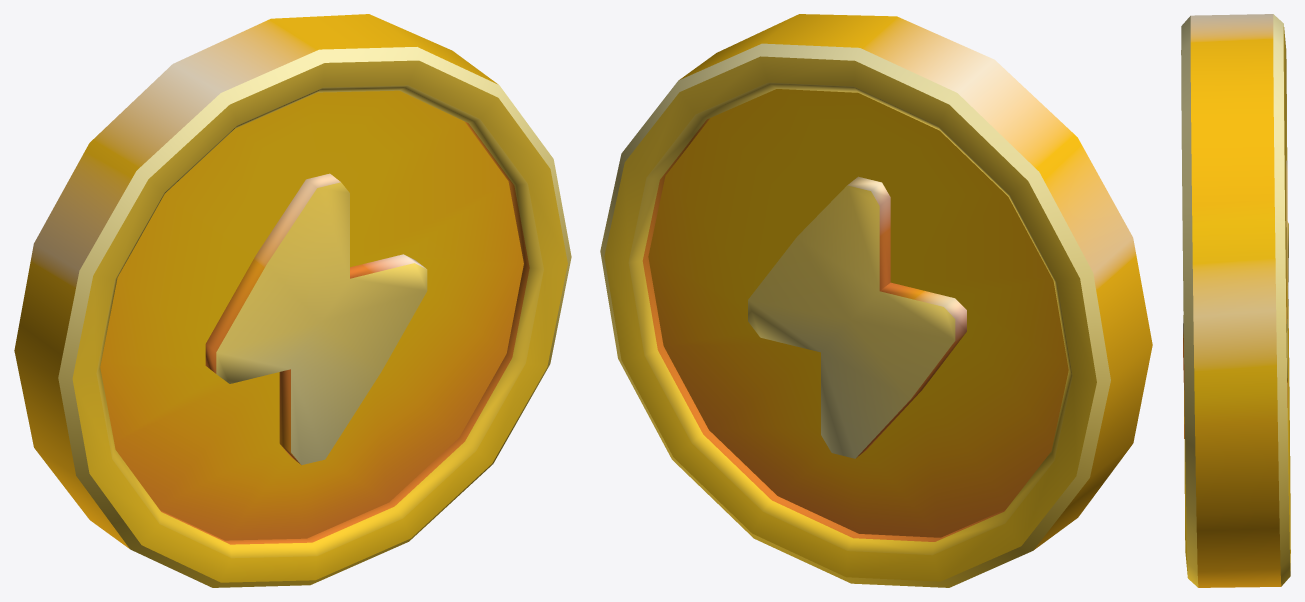
The model's file is blux.glb.
3 renders of one model, left to right at view 1: azimuth 30°, elevation 25°; view 2: azimuth 150°, elevation 25°; view 3: azimuth 270°, elevation 25°, orthographic. The views are drawn at different scales.
Parts seen in each view (by area): view 1: O_Blip_Coin_01; view 2: O_Blip_Coin_01; view 3: O_Blip_Coin_01.
Part boxes in pixels (left/top/right/bottom): O_Blip_Coin_01: left=14, top=14, right=571, bottom=587; O_Blip_Coin_01: left=600, top=14, right=1152, bottom=587; O_Blip_Coin_01: left=1181, top=14, right=1290, bottom=587.
Bounding box in the file's own units: 0.6903 × 0.6899 × 0.1318.
1 material, 1 textured.
